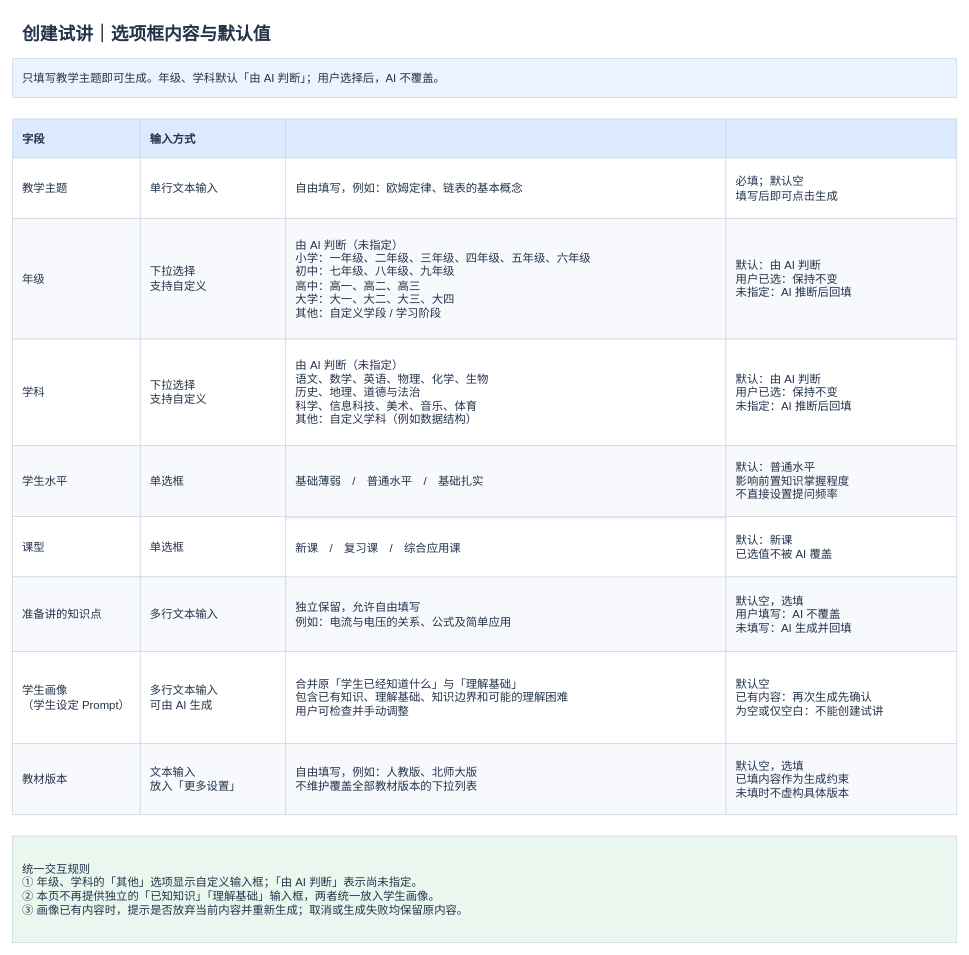
The diagram is 969 pixels wide and 955 high, and some of its shapes have lost their labels. The centre of each missing label's shape, as x and y in pixels:
"可选项 / 输入内容" goes at (505,138).
"默认值与规则" goes at (841,138).
